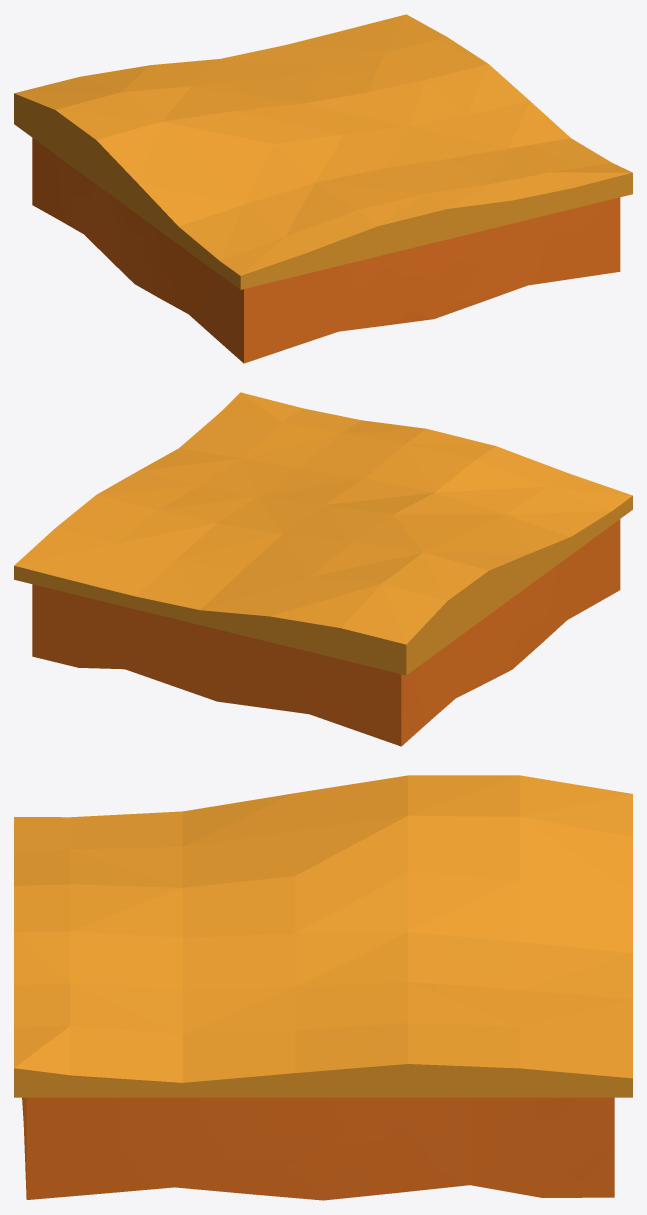
Rendered from world-desert.glb.
3 renders of one model, top to bottom at view 1: azimuth 30°, elevation 25°; view 2: azimuth 150°, elevation 25°; view 3: azimuth 270°, elevation 25°, orthographic. The views are drawn at different scales.
Visible parts, largest first — view 1: world-desert; view 2: world-desert; view 3: world-desert.
Part boxes in pixels (x1=…): world-desert: x1=14, y1=14, x2=632, y2=363; world-desert: x1=14, y1=392, x2=632, y2=746; world-desert: x1=14, y1=775, x2=632, y2=1200.
Bounding box in the file's own units: 30 × 9.18 × 30.
Materials: 1 (1 with a texture image).
